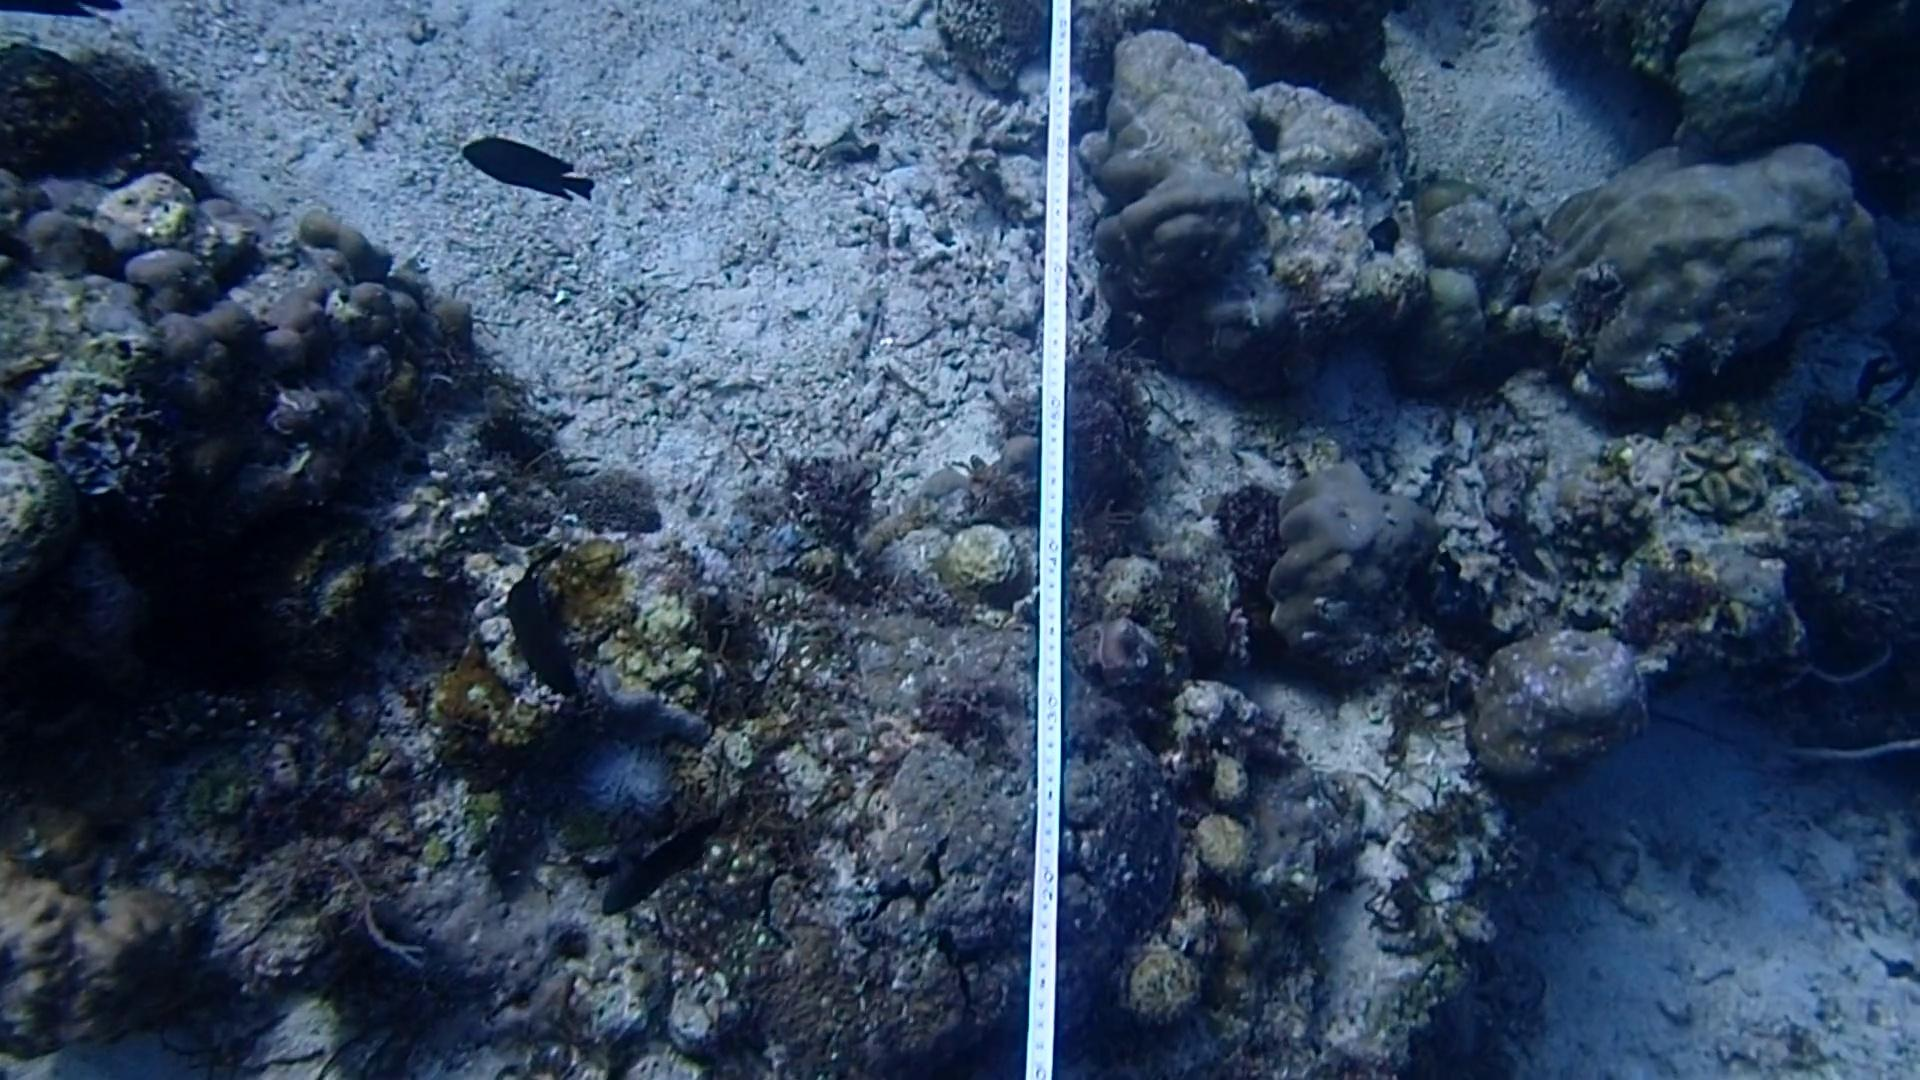Dark Fish: (597, 810, 716, 932), (496, 550, 584, 703), (450, 120, 597, 208)
